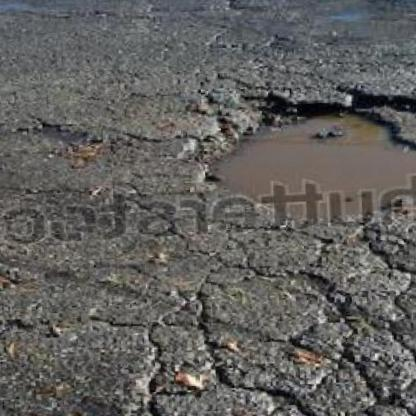pothole: (194, 84, 416, 218)
